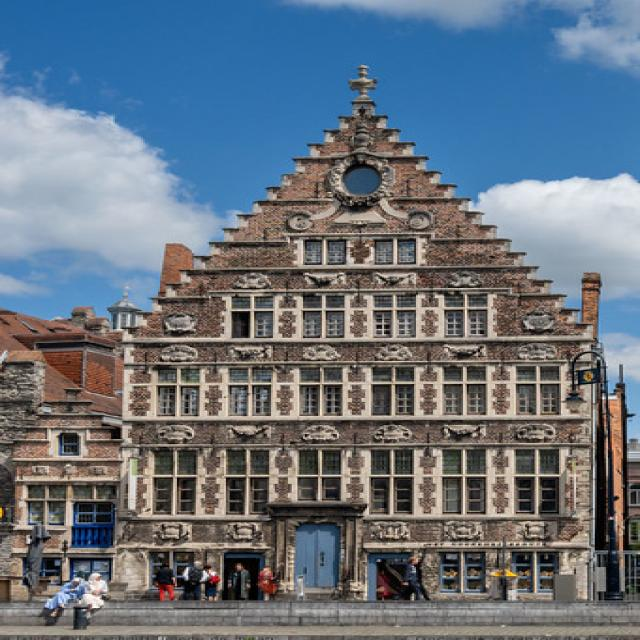building: (131, 85, 607, 613)
